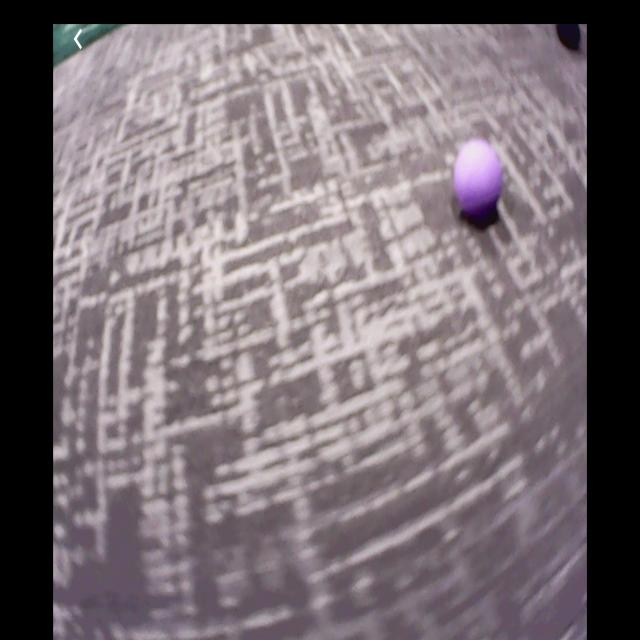ball: (454, 141, 504, 211)
